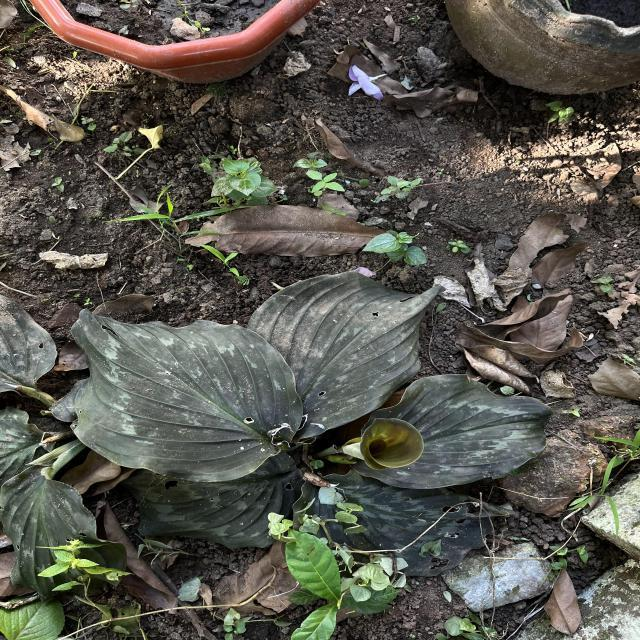Kaempferia galanga linn: (70, 306, 305, 484), (246, 269, 449, 443), (349, 372, 556, 492)
